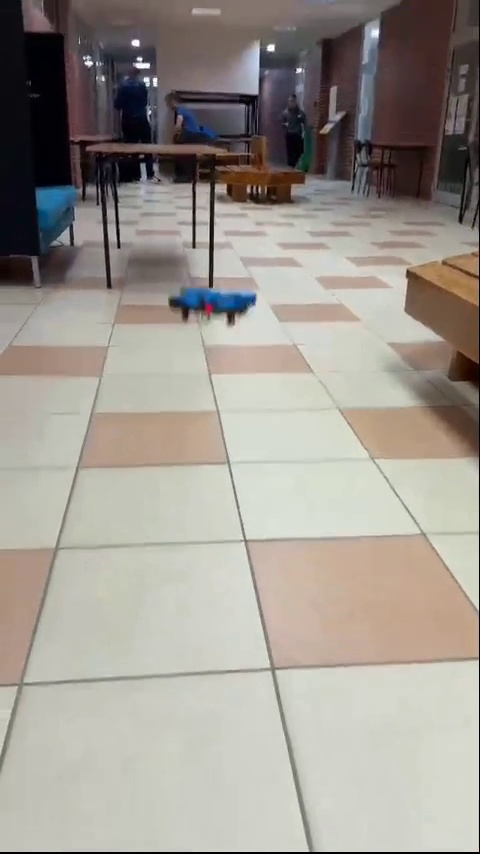drone: (168, 283, 255, 322)
no vest: (116, 70, 164, 190), (165, 96, 219, 181), (280, 91, 307, 174)
